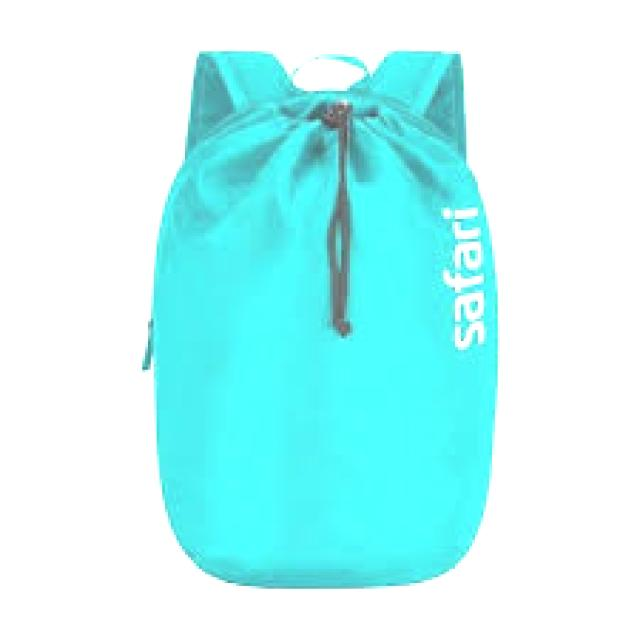backpack: (141, 46, 502, 590)
